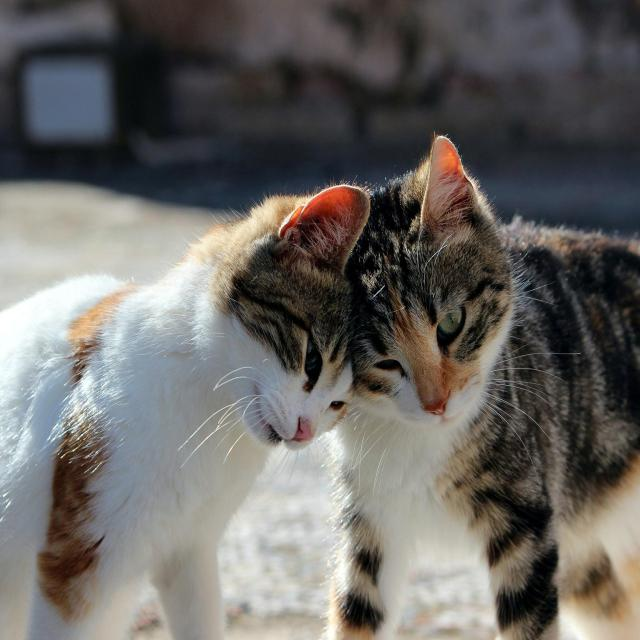Cat: (349, 147, 522, 446), (198, 178, 360, 462)
